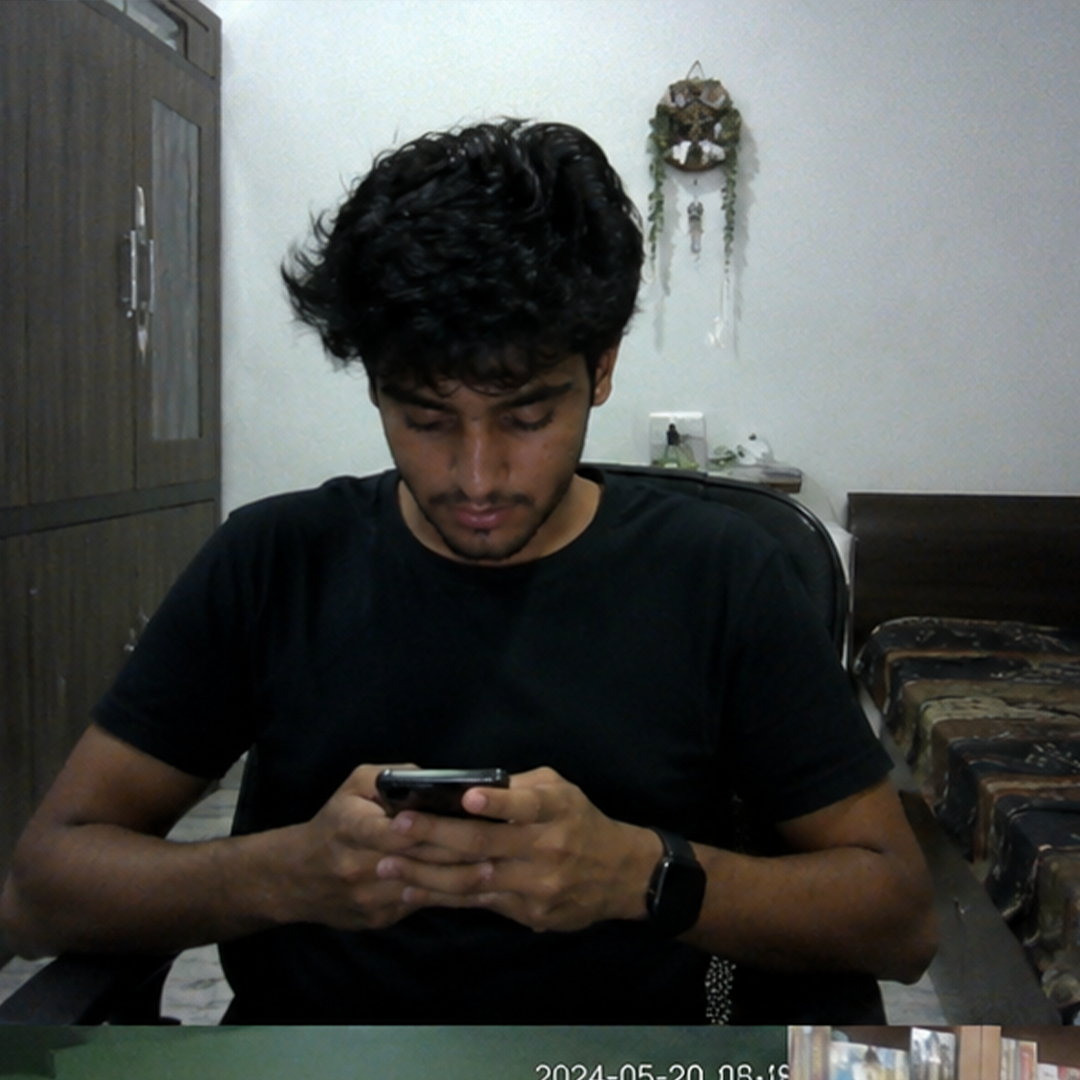distracted: (190, 77, 796, 948)
